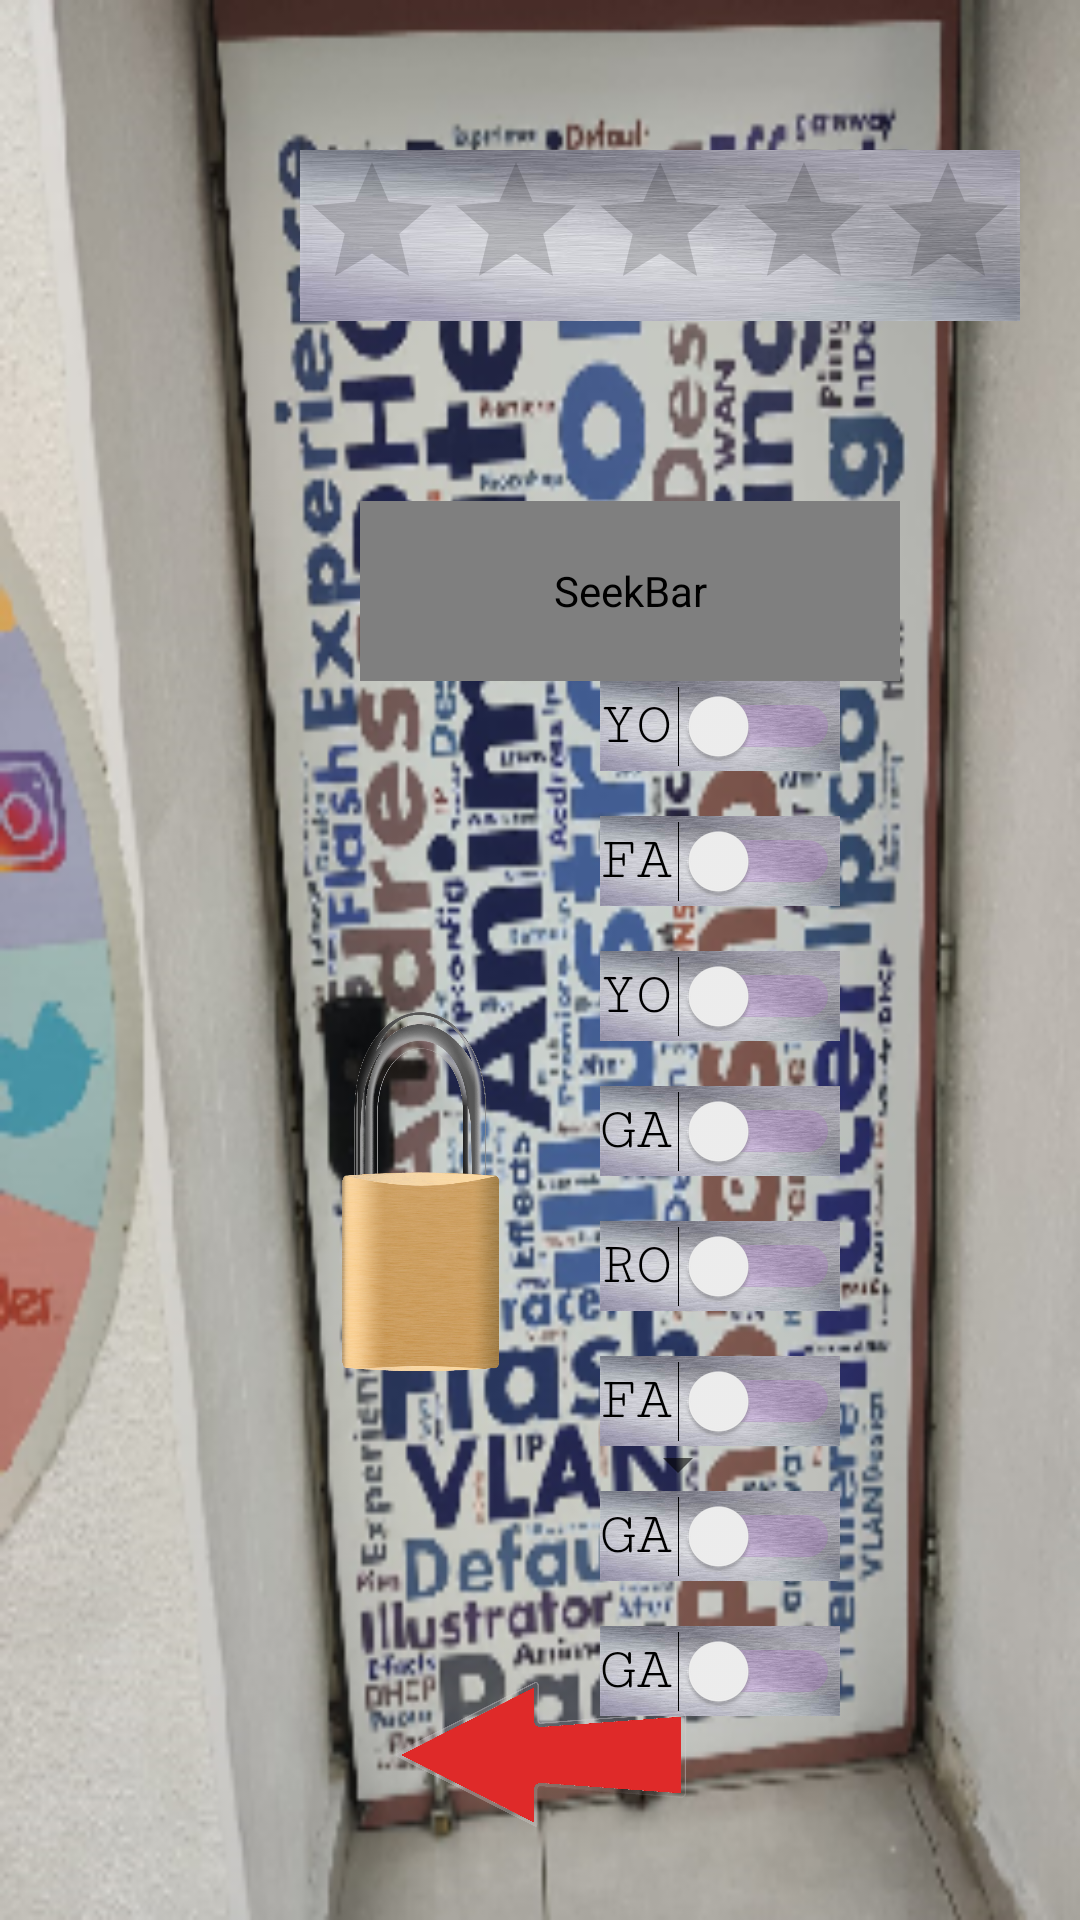

Icons on this 1080x1920 Android screen, each with the point to tap as [x,y]:
arrowleft: [540,1755]
